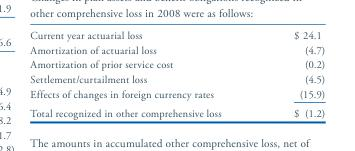table: (29, 28, 324, 120)
table column: (29, 28, 256, 120), (256, 28, 324, 120)
table row: (29, 86, 324, 103), (29, 103, 324, 120), (29, 42, 324, 57), (29, 71, 324, 86), (29, 28, 324, 42), (29, 57, 324, 71)
